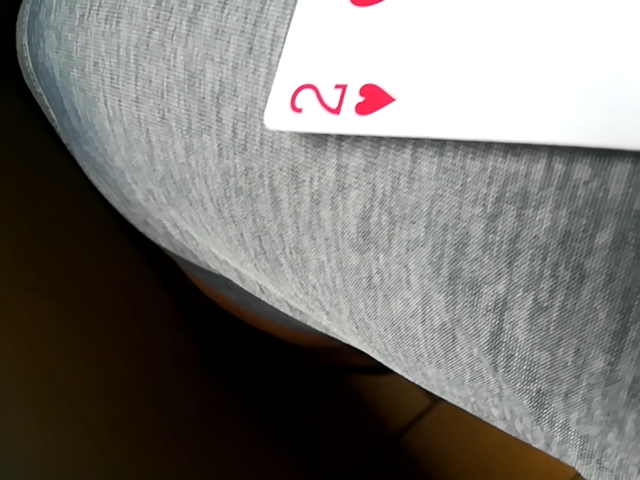hx 2: (264, 0, 639, 156)
